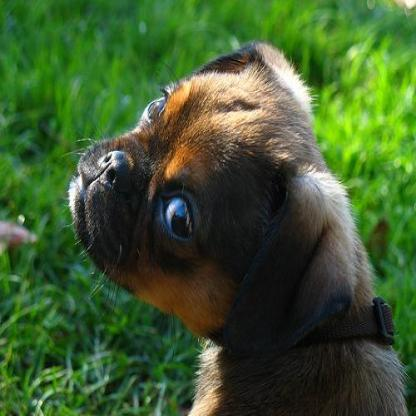Brabancon_griffon: (67, 43, 408, 414)
